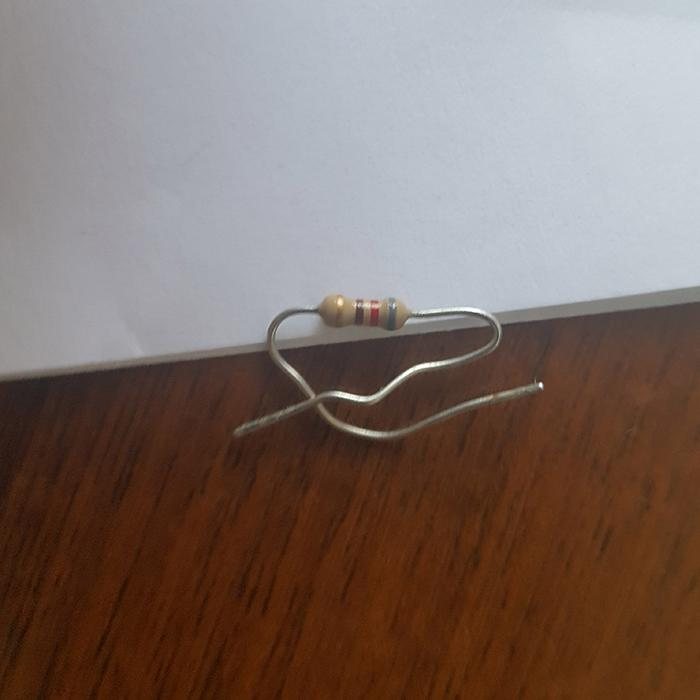resistor: (317, 294, 410, 330)
